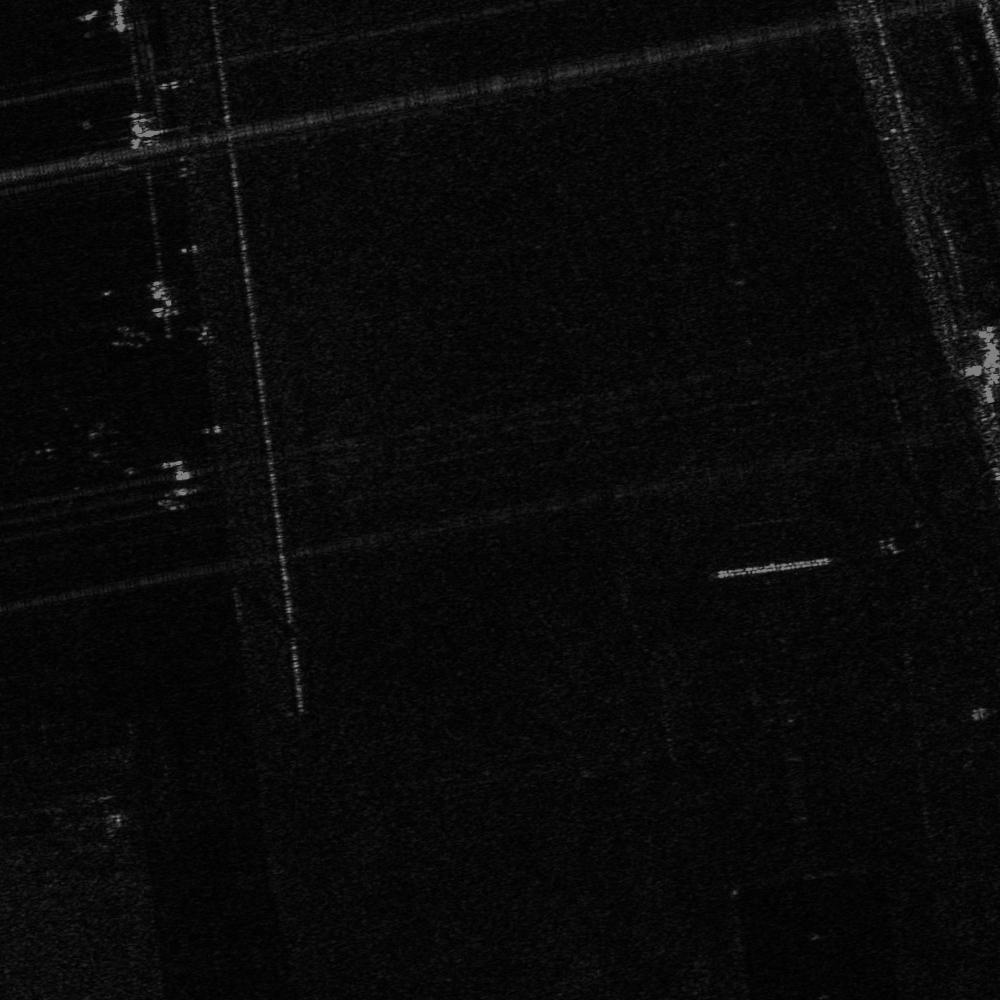Boeing787: (13, 389, 126, 510)
